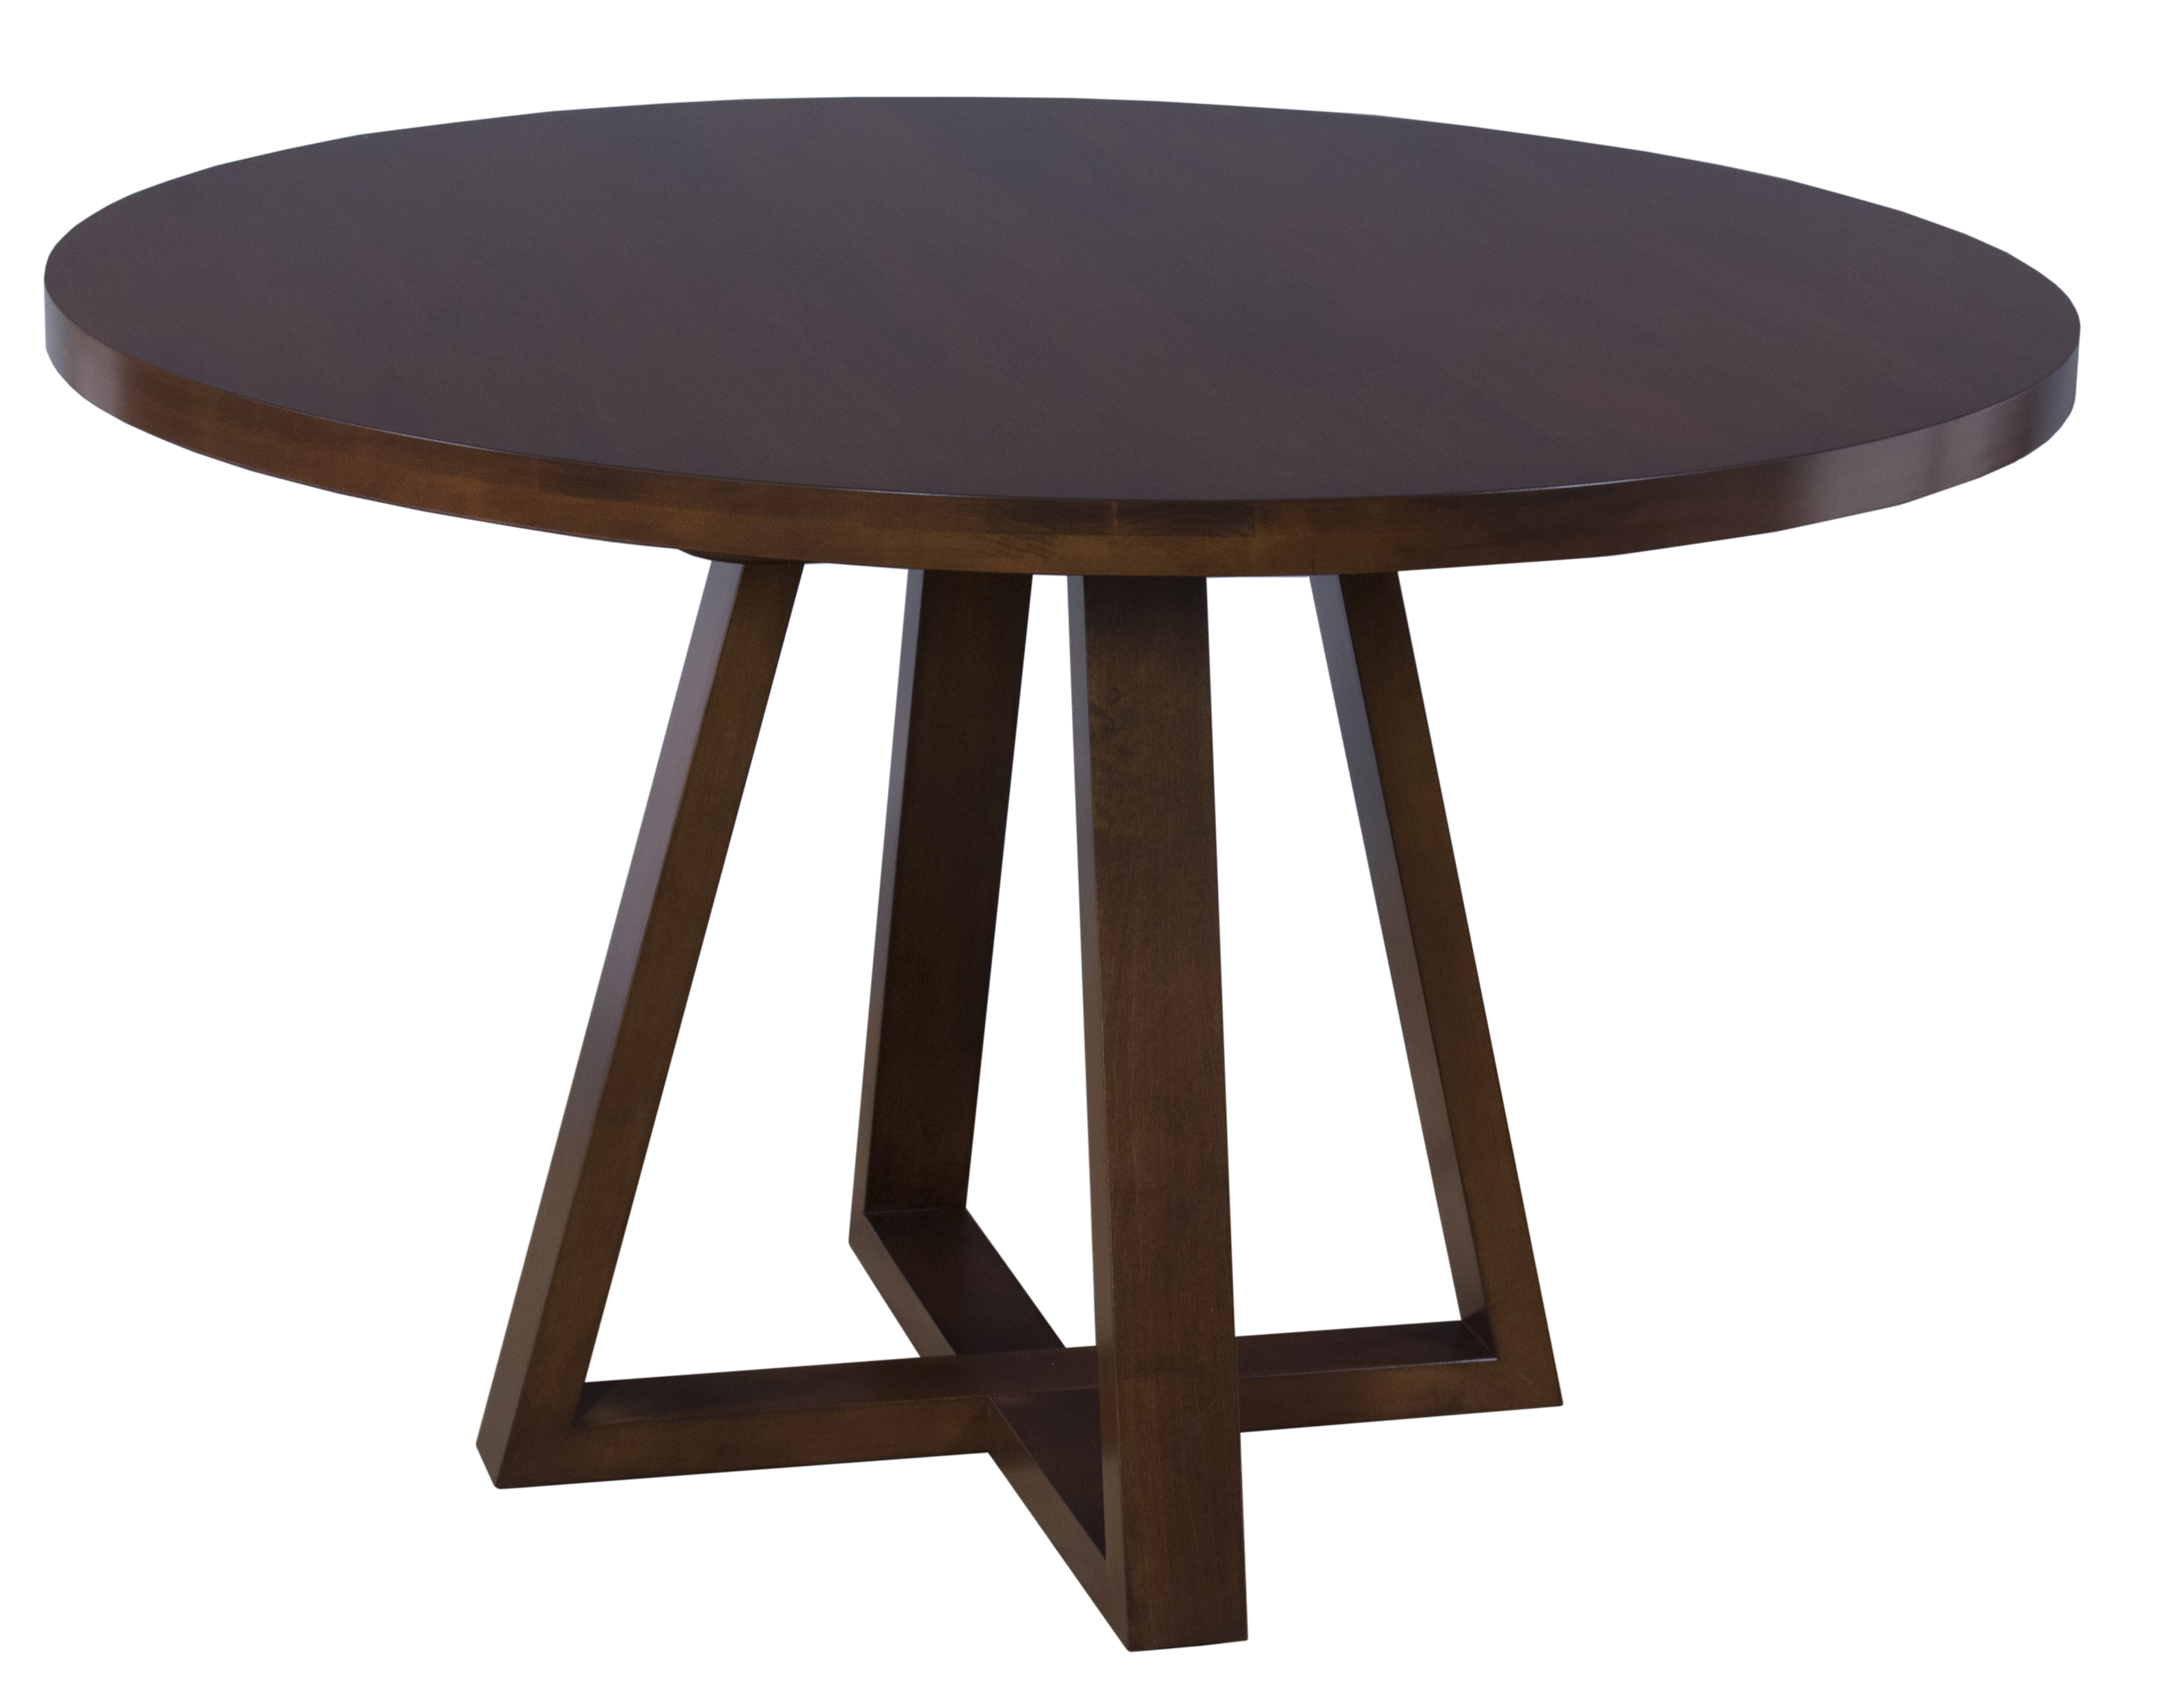meja: (37, 93, 2081, 1645)
